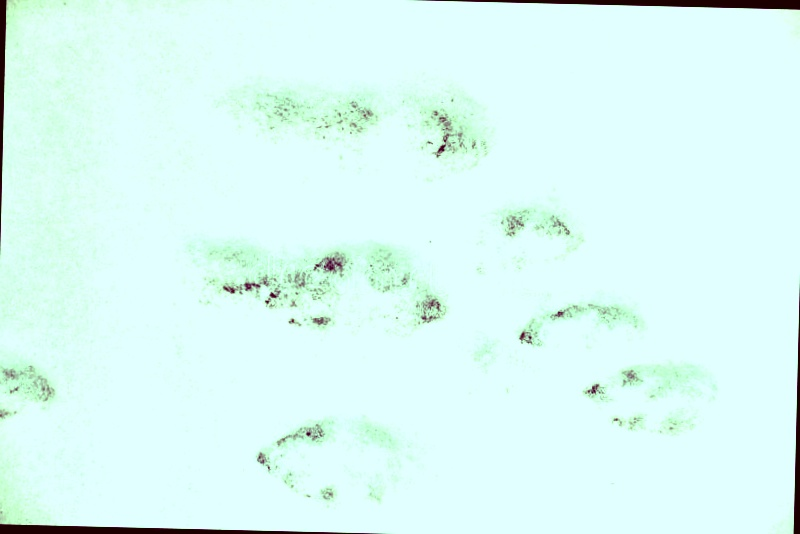lapin: (159, 236, 452, 367), (190, 64, 494, 186), (517, 289, 745, 449), (255, 399, 445, 530), (447, 192, 591, 280), (1, 352, 68, 440)
